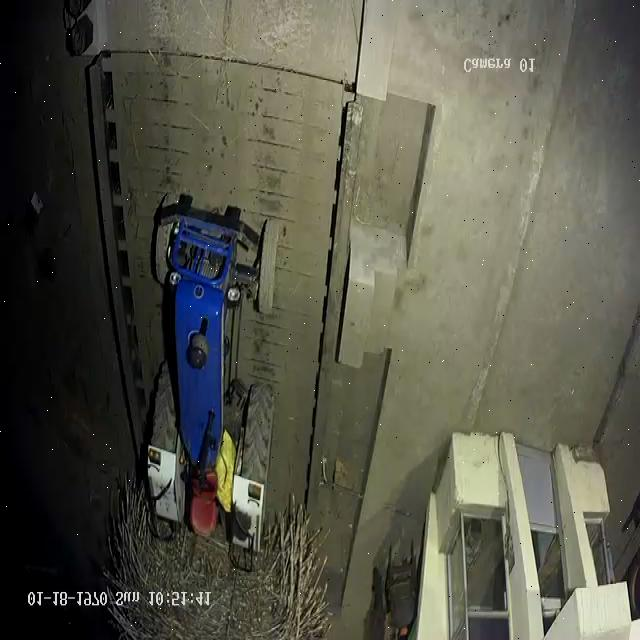Tratores - v5 YOLO V8L 2024-11-13: (144, 193, 284, 529)
